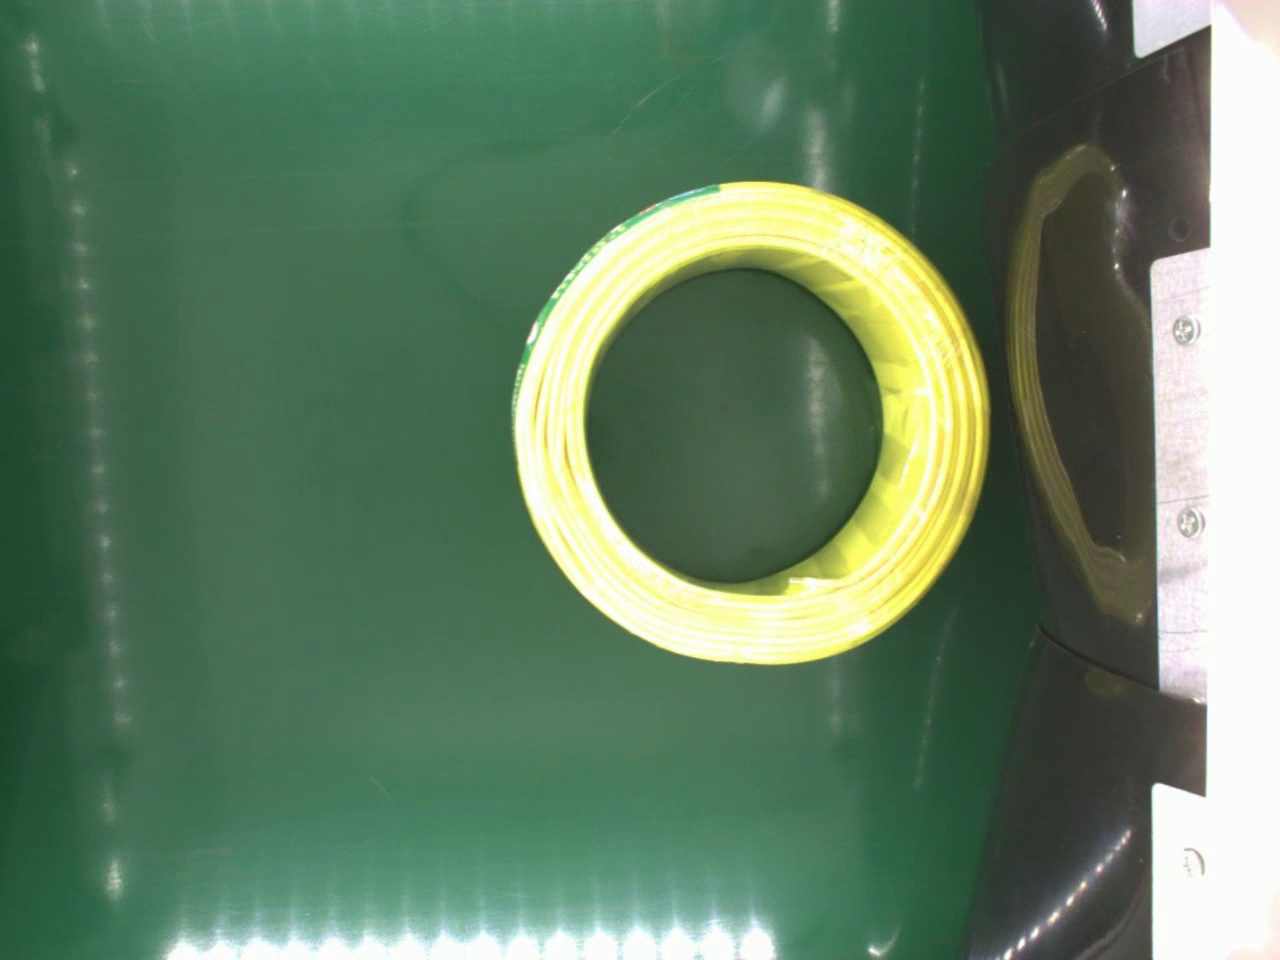yellow: (508, 173, 993, 669)
